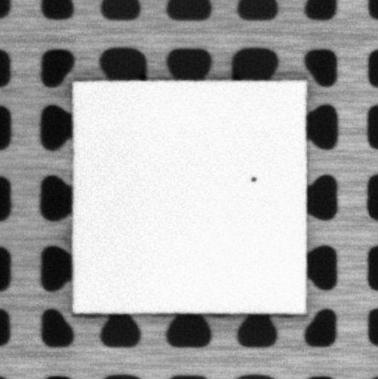DIE_INK: (249, 173, 259, 183)
